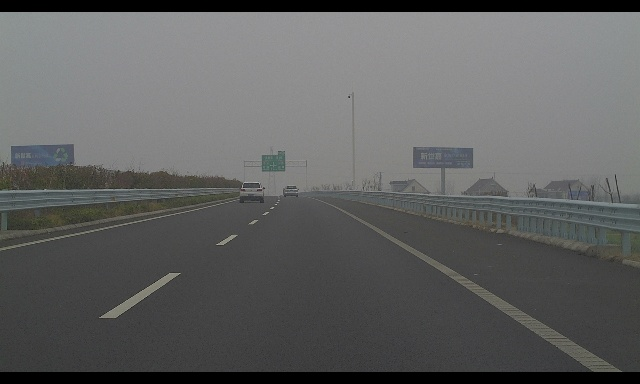car: (240, 181, 265, 203), (283, 185, 299, 197)
